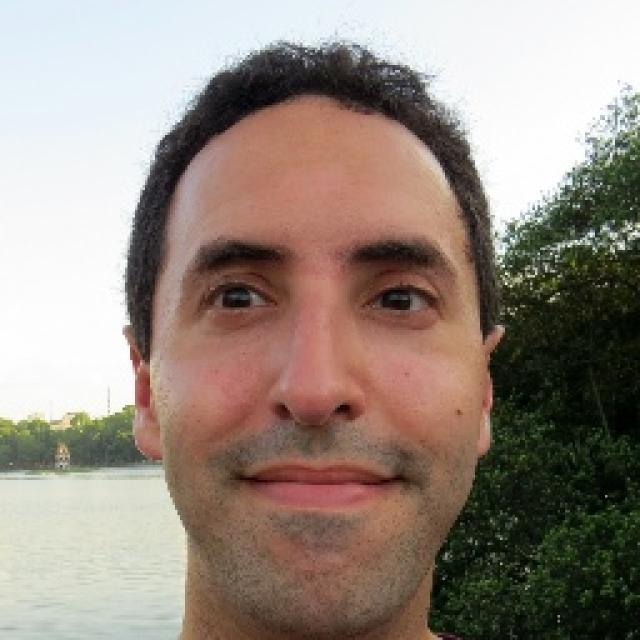earlobe: (122, 324, 165, 461), (472, 324, 507, 459)
